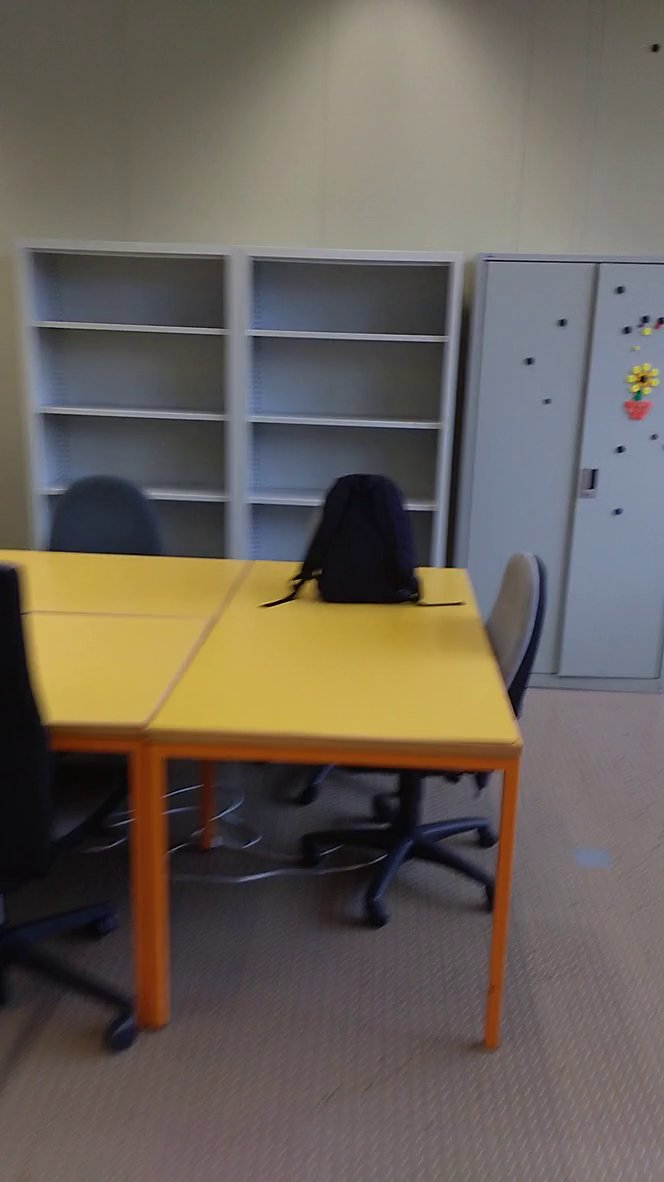bag: (258, 464, 473, 613)
chair: (304, 530, 555, 929), (40, 472, 177, 578)
